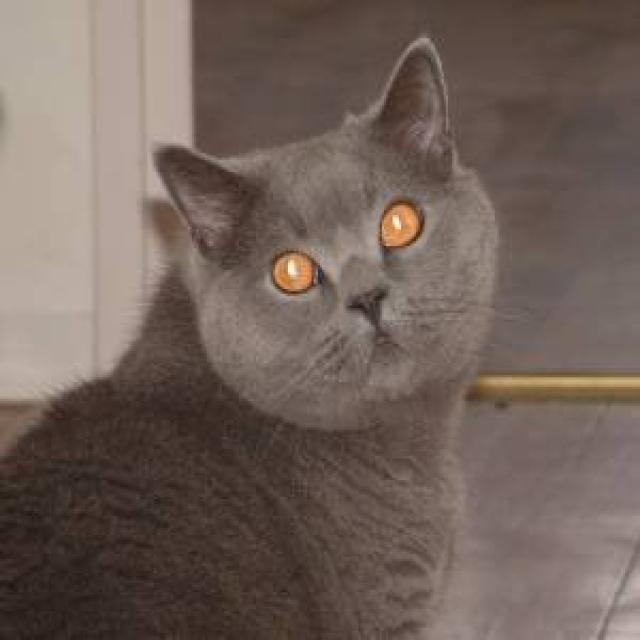British_Shorthair: (147, 36, 537, 441)
